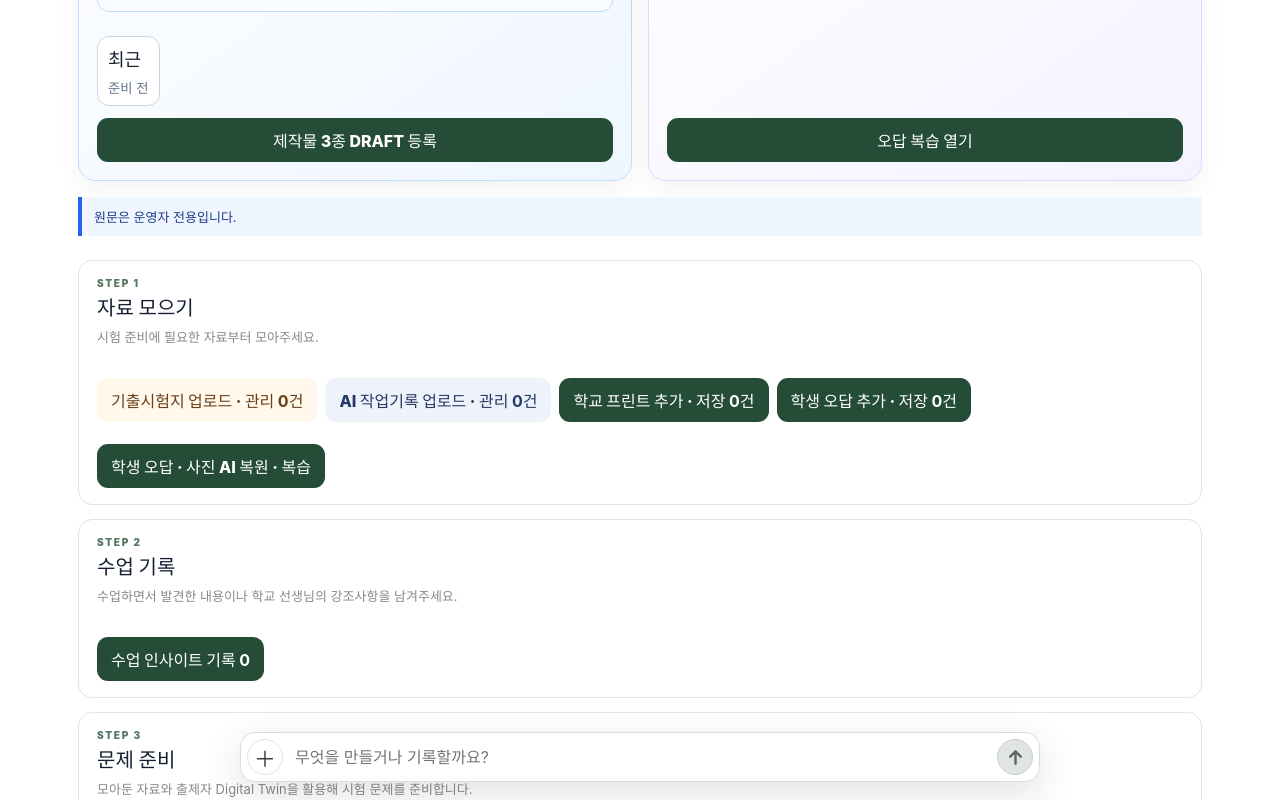
Test: 내신 Wiki V1.1 시나리오 홈 › STEP 1의 학교 프린트 추가는 자료 제목·HTML·JSON(선택) 필드만 열고 원본 업로드가 없으며 HTML만으로 저장할 수 있다
(page scrolled)
Click the button "학교 프린트 추가 · 저장 0건". click: (664,400)
box: [559,378,769,422]
(page scrolled)
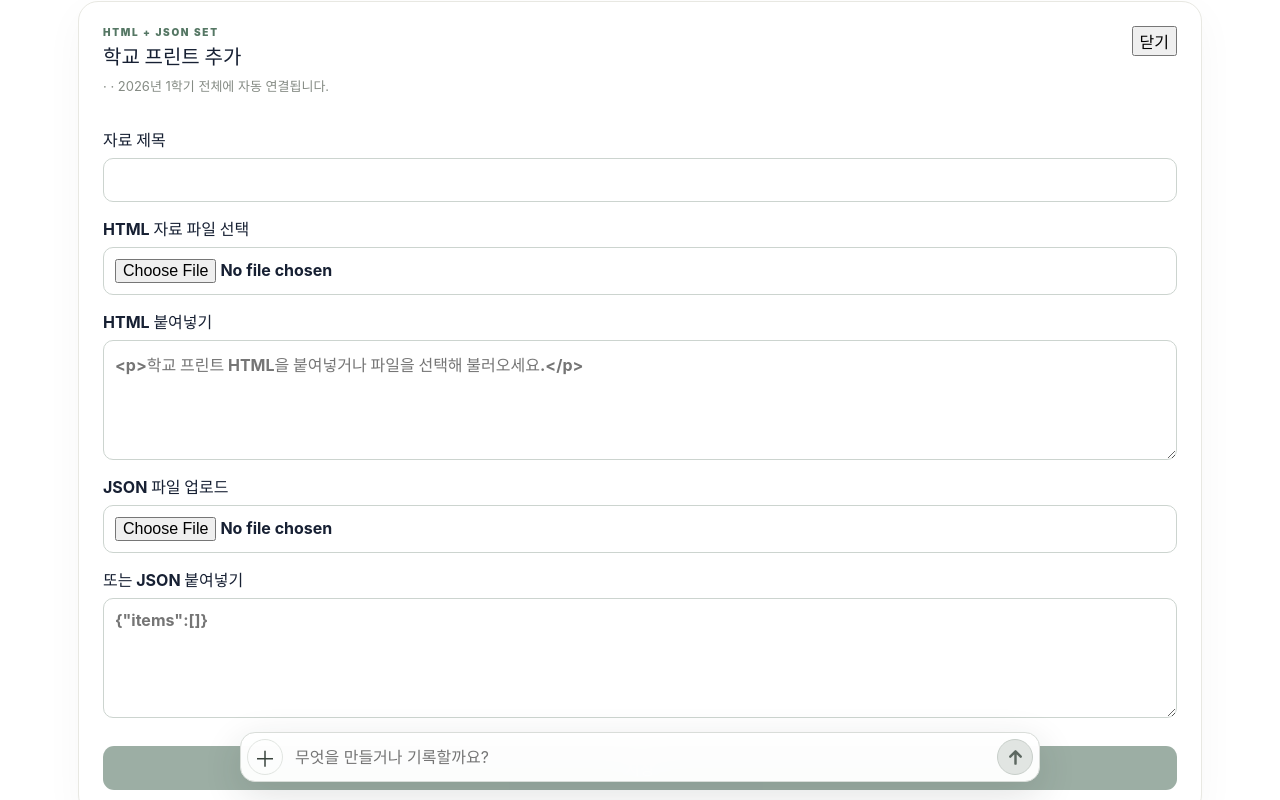
expect the field labelled "자료 제목" is shown: met, box [103,158,1177,202]
expect the file field labelled "HTML 자료 파일 선택" is shown: met, box [103,247,1177,295]
expect the text box labelled "HTML 붙여넣기" is shown: met
Type "<p>5과 본문 HTML</p>" into the text box labelled "HTML 붙여넣기". click: (640,400)
box: [103,340,1177,460]
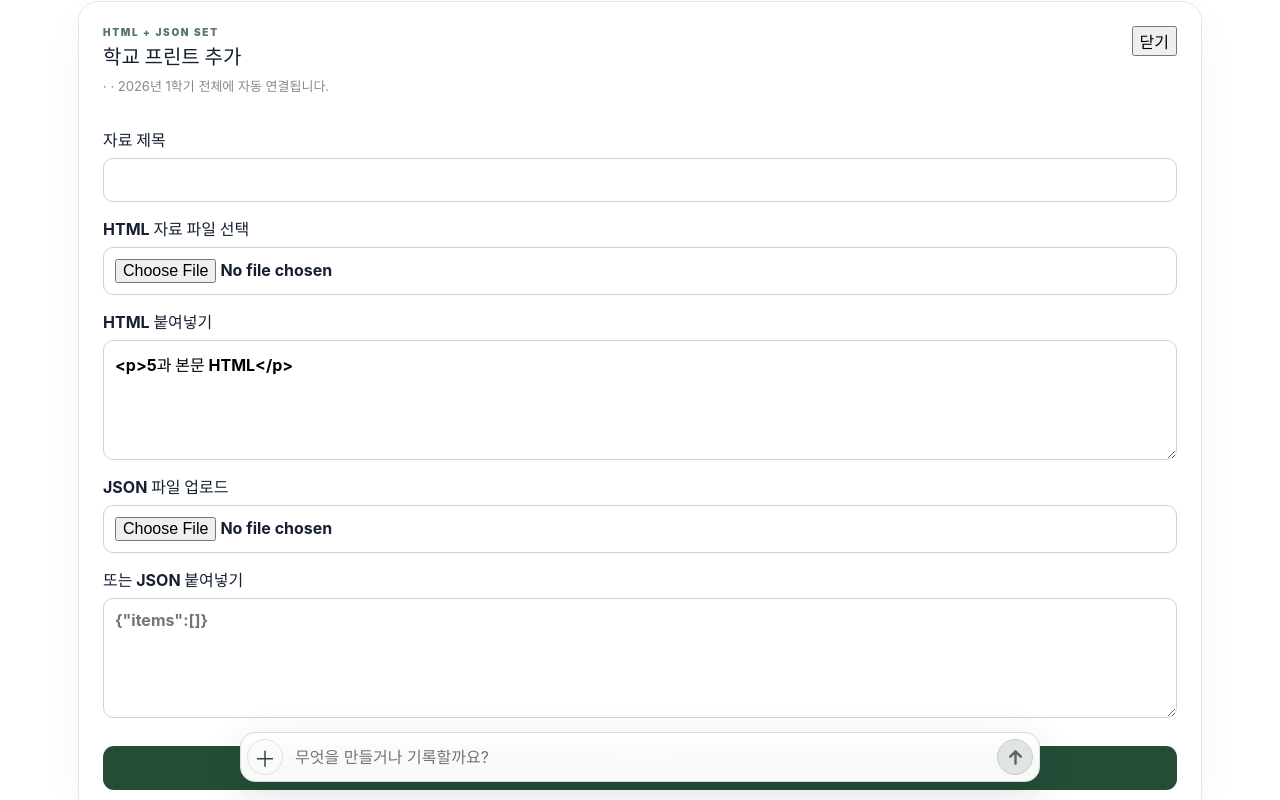
expect the button "저장" is enabled: met, box [103,746,1177,790]
